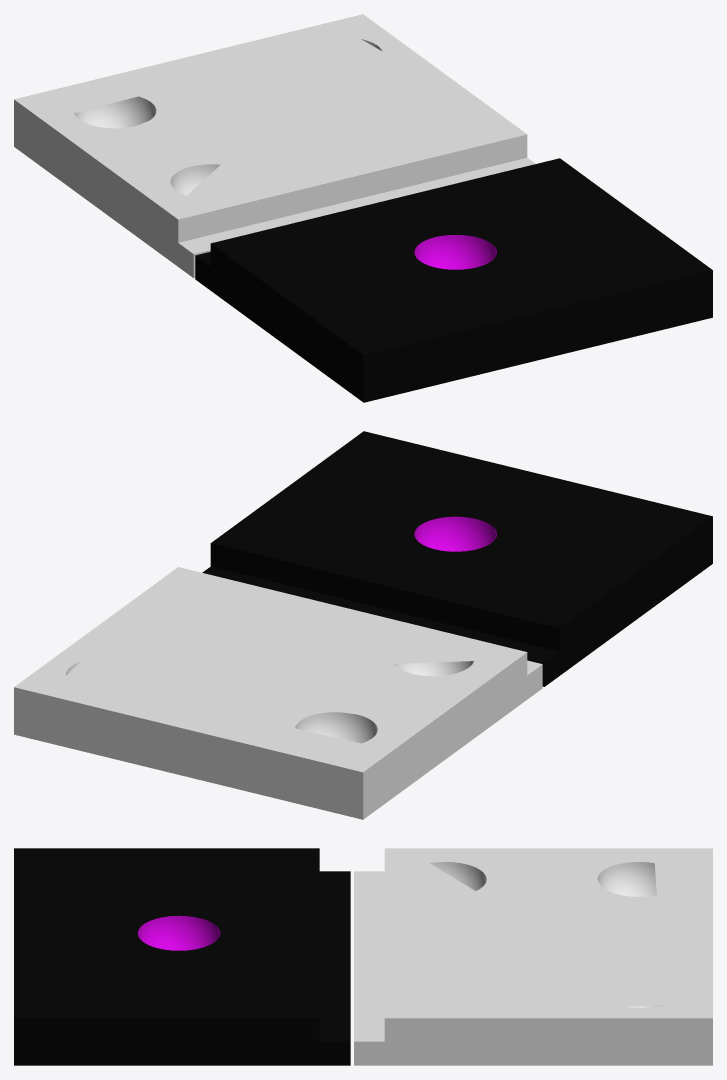
File: domino2.fbx
The picture shows the model from 3 angles, top to bottom: view 1: azimuth 30°, elevation 25°; view 2: azimuth 150°, elevation 25°; view 3: azimuth 270°, elevation 25°; orthographic projection.
Parts seen in each view (by area): view 1: Cube.002, Cube.003; view 2: Cube.003, Cube.002; view 3: Cube.003, Cube.002.
Boxes of the visible parts, <box> form: Cube.002: <box>195,158,712,402</box>; Cube.003: <box>14,14,535,278</box>; Cube.003: <box>14,567,542,819</box>; Cube.002: <box>202,431,712,686</box>; Cube.003: <box>354,848,712,1065</box>; Cube.002: <box>14,848,350,1065</box>.
Bounding box in the file's own units: 205 × 26.65 × 356.
